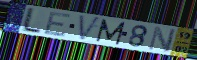8: (127, 24, 149, 48)
E: (42, 11, 73, 38)
L: (19, 7, 44, 35)
M: (95, 18, 127, 46)
N: (147, 25, 178, 53)
V: (78, 14, 102, 43)
